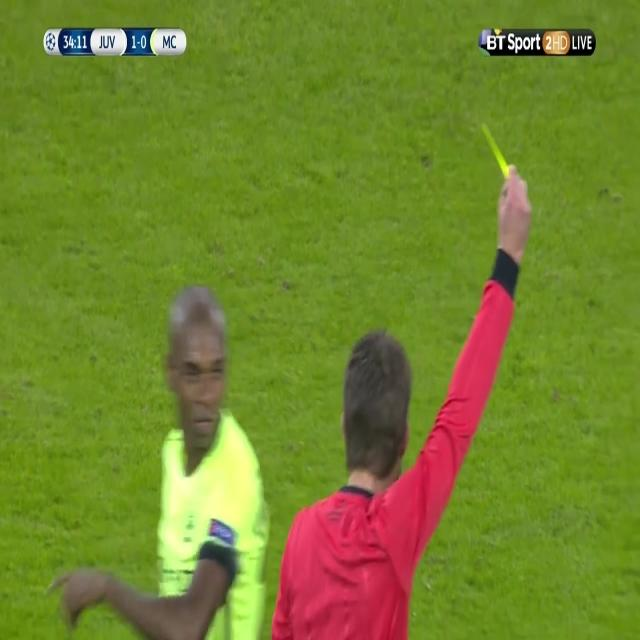Player: (41, 280, 267, 640)
Referee: (271, 170, 535, 636)
